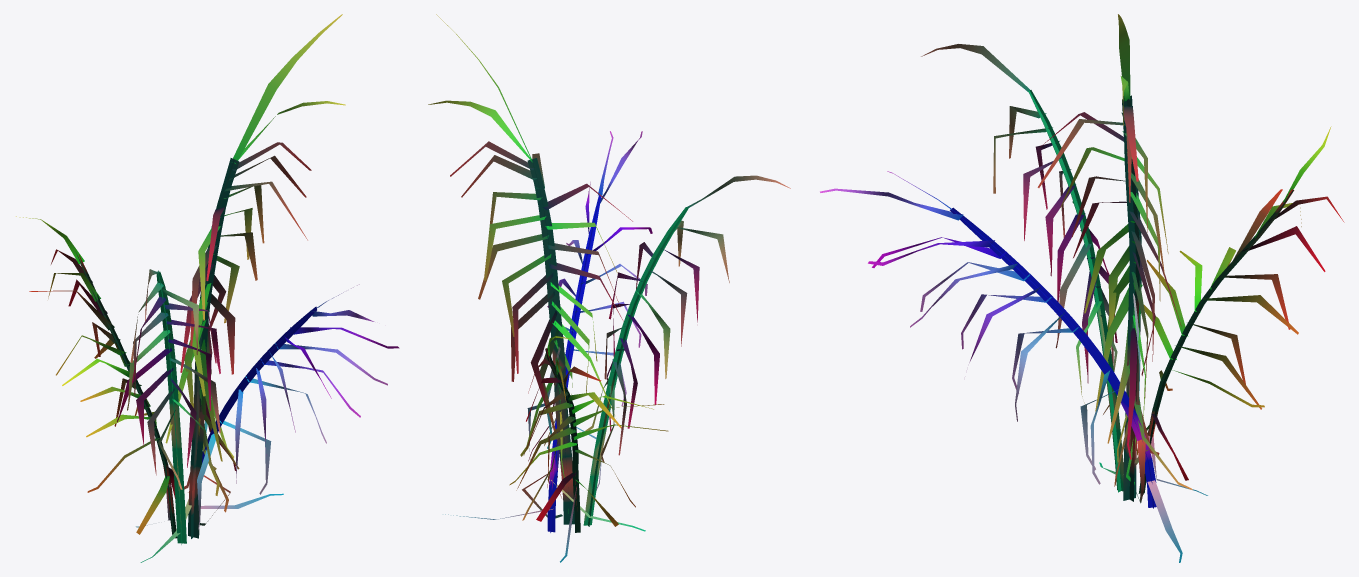
File: Giant_Reed_sjllX_Mid_sjllX_VarB_LOD1.fbx
The picture shows the model from 3 angles, left to right: view 1: azimuth 30°, elevation 25°; view 2: azimuth 150°, elevation 25°; view 3: azimuth 270°, elevation 25°; orthographic projection. The views are drawn at different scales.
Parts seen in each view (by area): view 1: _4ad0_VarB_LOD2; view 2: _4ad0_VarB_LOD2; view 3: _4ad0_VarB_LOD2.
Part boxes in pixels (box(x1,y1,x2,y2)): _4ad0_VarB_LOD2: box(16, 14, 399, 562); _4ad0_VarB_LOD2: box(428, 14, 790, 562); _4ad0_VarB_LOD2: box(820, 14, 1344, 562).
Bounding box in the file's own units: 124 × 205 × 169.
